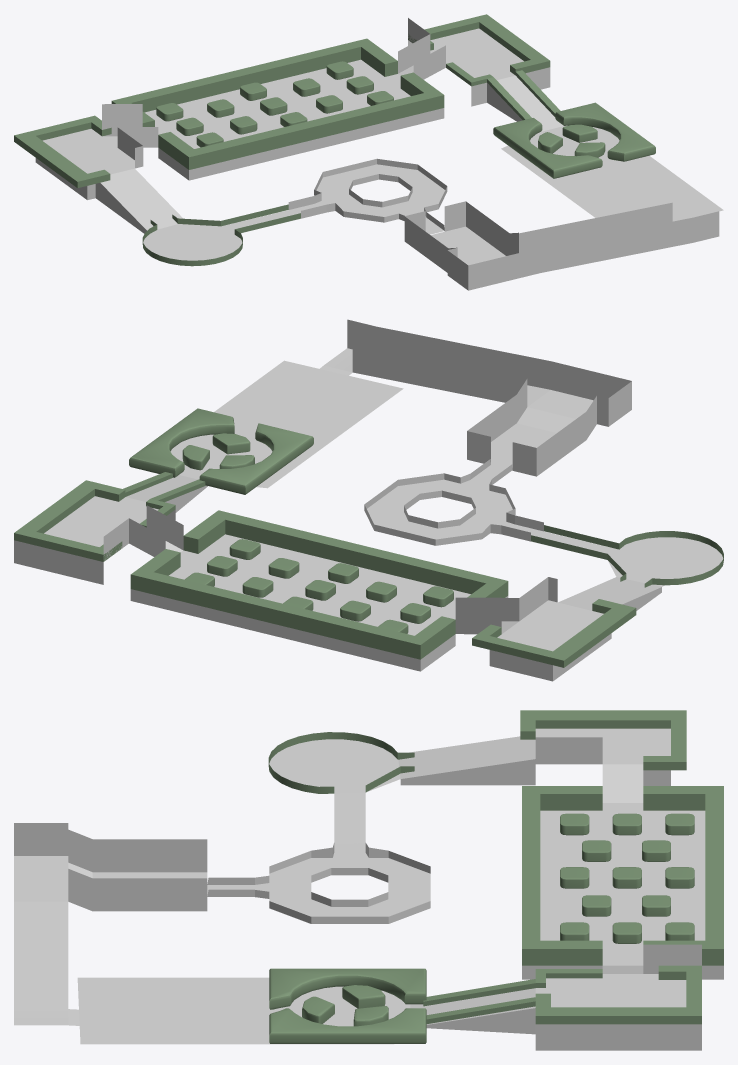
File: block de circuit.fbx
3 views of the same model, one above another, from view 1: azimuth 30°, elevation 25°; view 2: azimuth 150°, elevation 25°; view 3: azimuth 270°, elevation 25° (orthographic). The views are drawn at different scales.
Parts seen in each view (by area): view 1: pasted__polySurface11; view 2: pasted__polySurface11; view 3: pasted__polySurface11.
Boxes of the visible parts, bbox=[...] form: pasted__polySurface11: bbox=[14, 14, 723, 290]; pasted__polySurface11: bbox=[14, 319, 723, 681]; pasted__polySurface11: bbox=[14, 710, 723, 1050].
Size of the model in its own units: 1196 by 124 by 1165.
